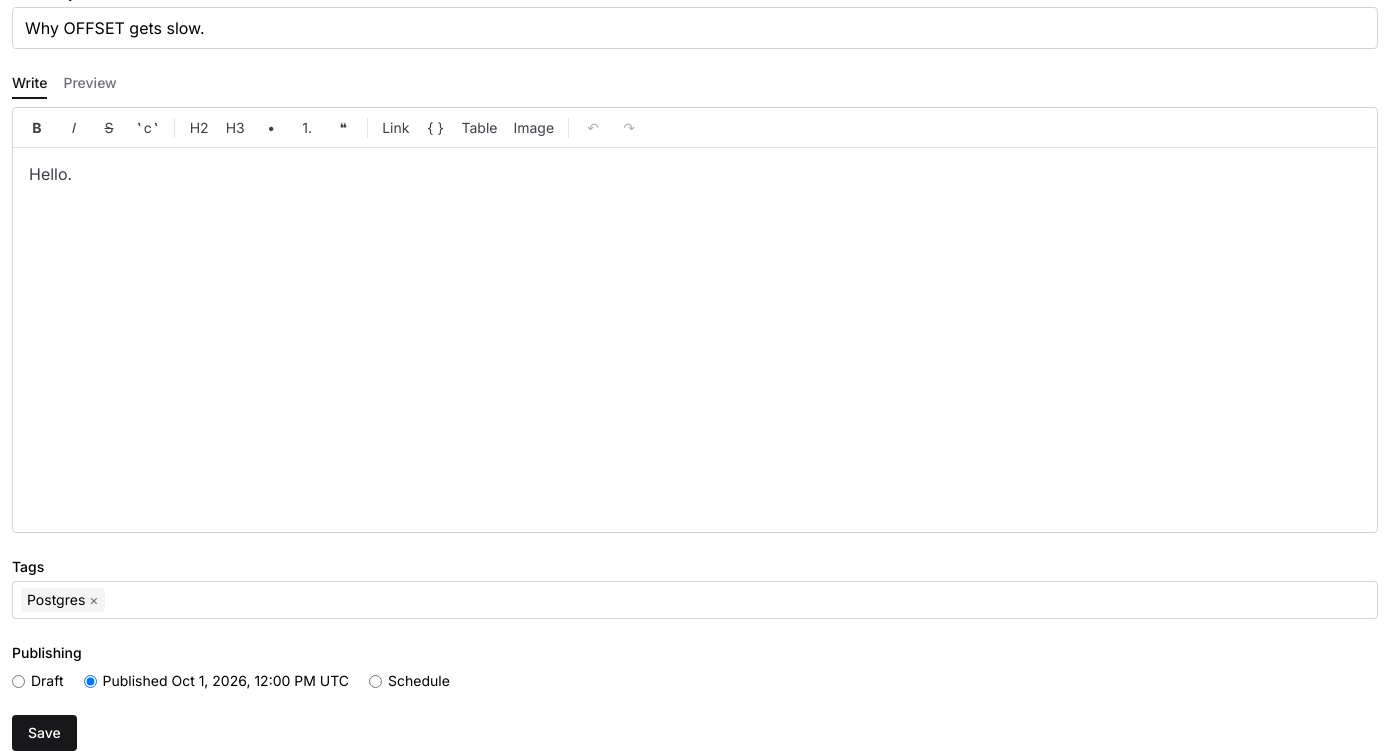
it: PostEditor, existing post › explains a conflict
The image size is (1390, 751).
(page scrolled)
Click the button "Save". click: (44, 733)
box: [12, 715, 77, 750]
(page scrolled)
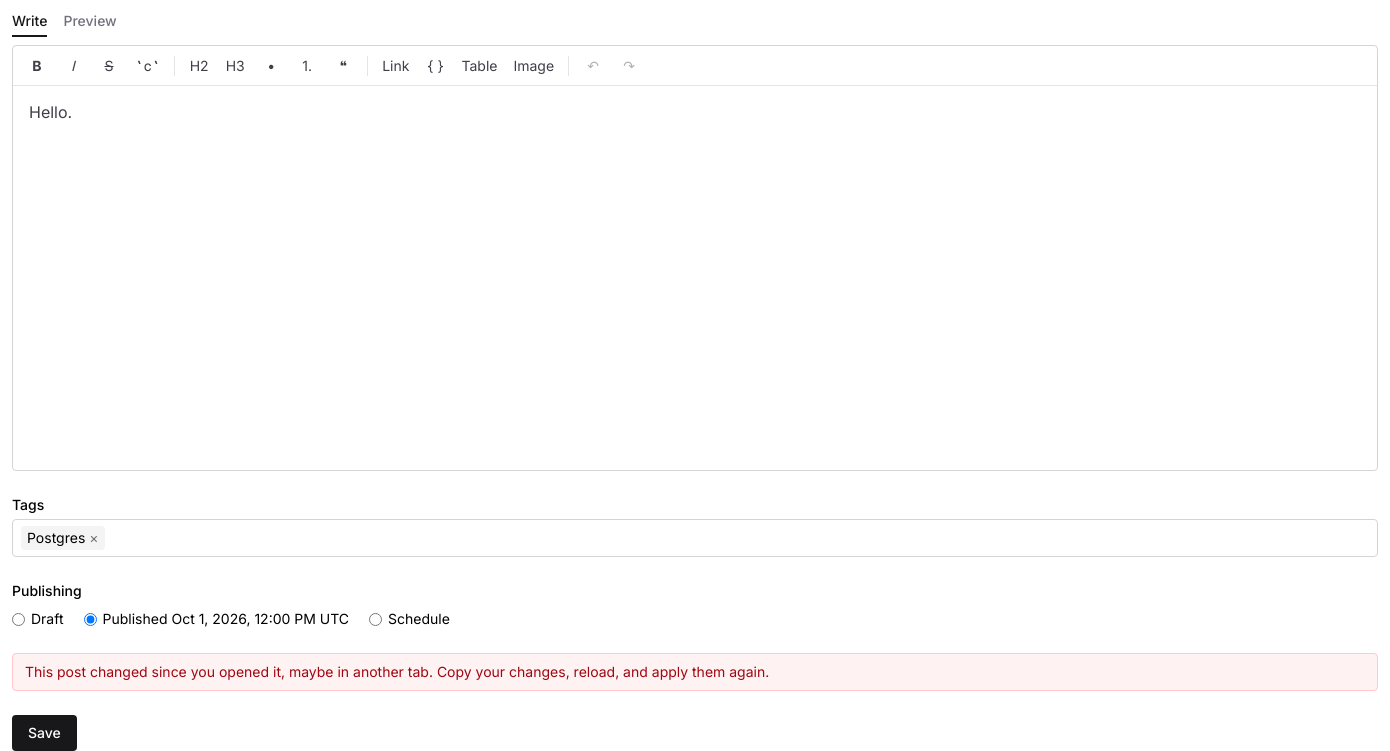
Expected: the message shows "changed since", [25, 663, 769, 680]
